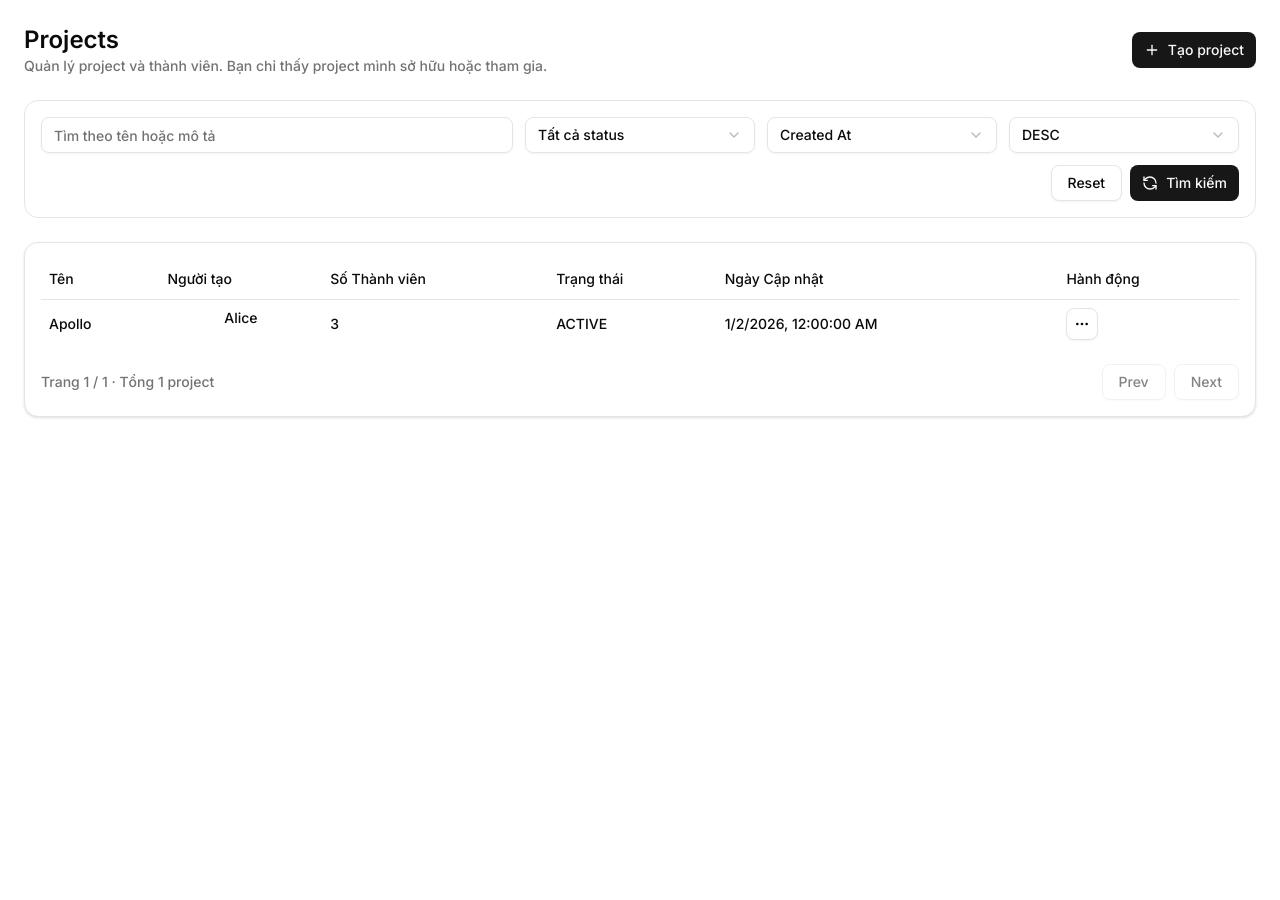
Test: <ProjectsPage /> › opens the members dialog and loads members from the row menu
Expected: the text "Apollo" is shown, [49,314,92,332]
What coordinates should you click on to do the following:
click the button named "Project actions"
I would click on:
 (1082, 324)
Its box is [1066,308,1098,340].
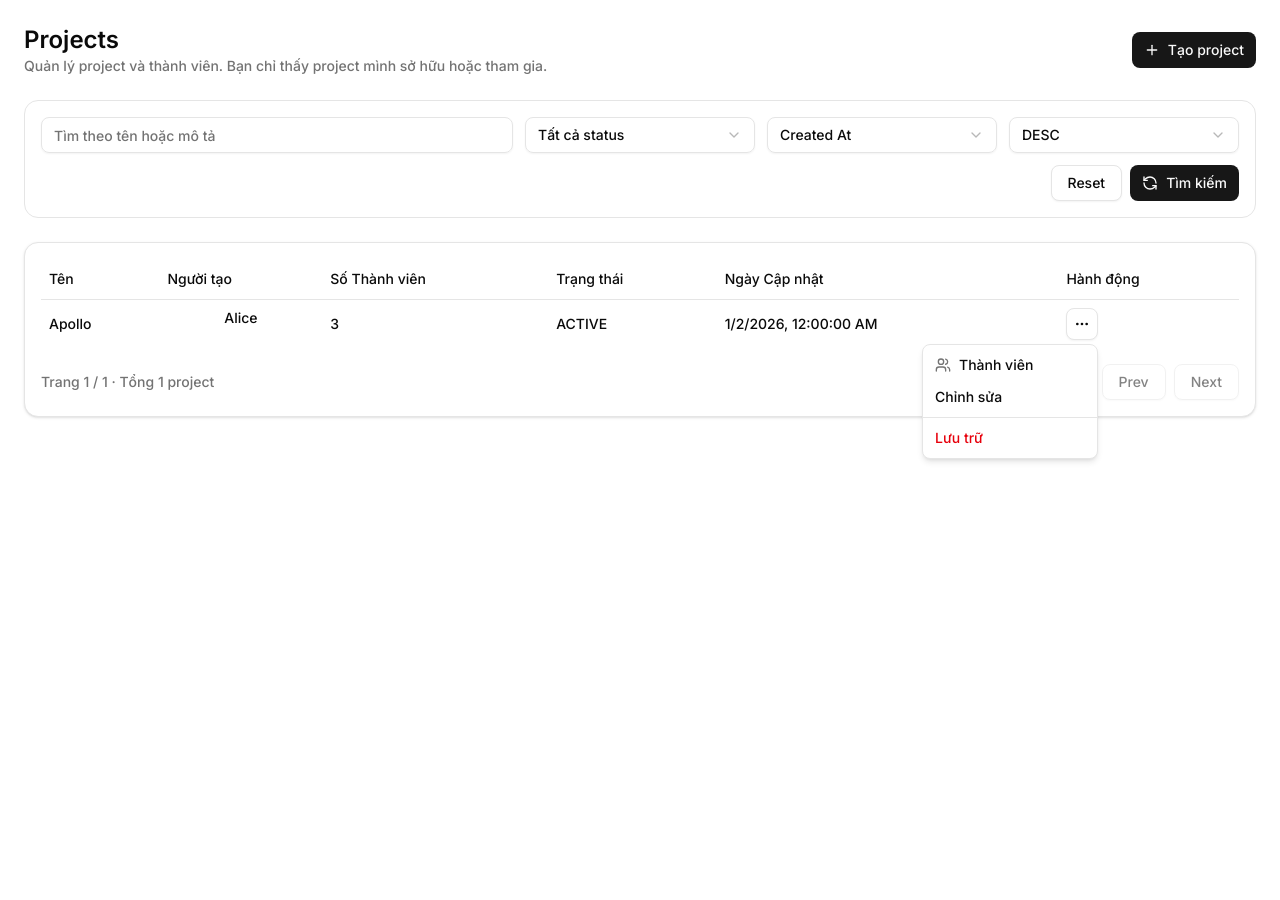
What coordinates should you click on to do the following:
click the menu item "Thành viên"
I would click on:
 (984, 364)
Its box is [935,356,1033,373].
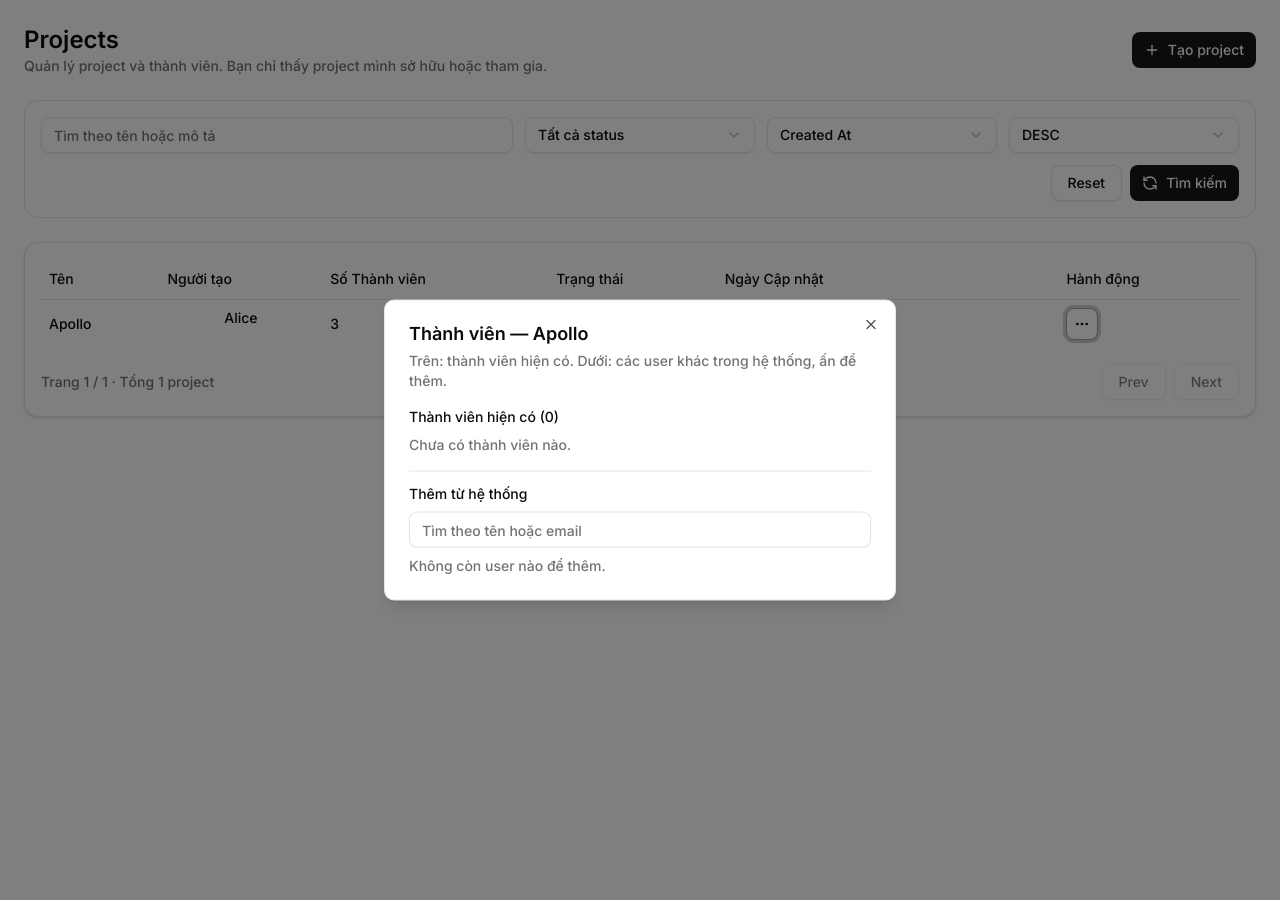
Expected: the heading "Thành viên — Apollo" is shown, [409,322,588,344]
